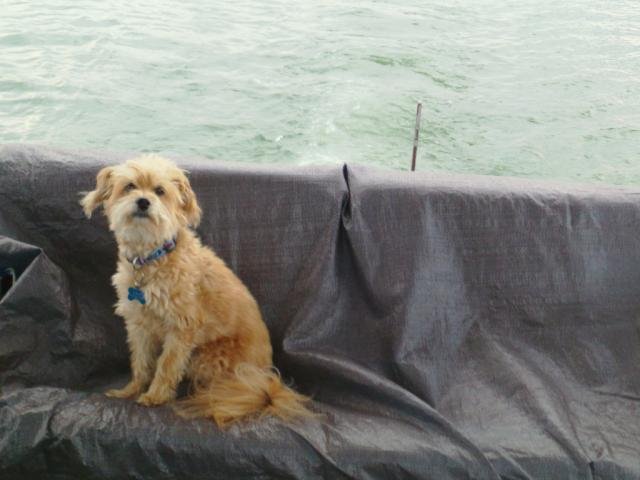Dog: (78, 155, 324, 428)
